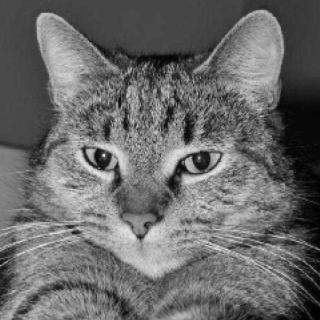cat: (28, 6, 290, 273)
nose: (113, 180, 174, 247)
